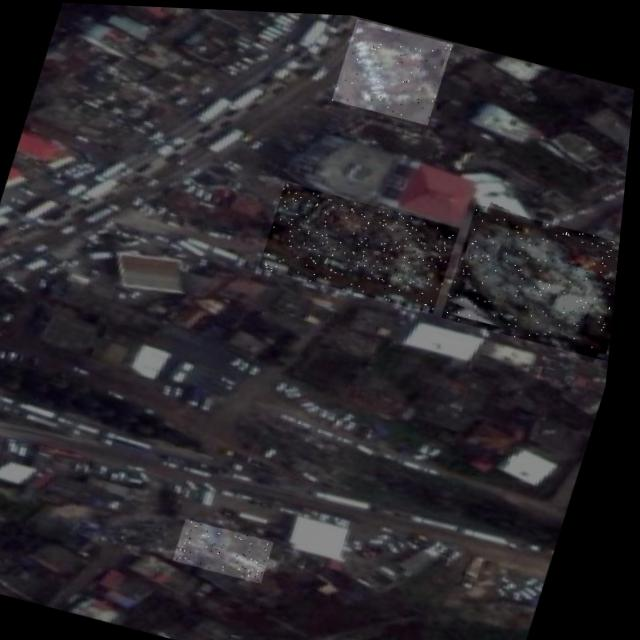Rubble: (443, 197, 626, 354), (260, 178, 465, 309), (331, 14, 453, 121), (181, 516, 285, 580)
